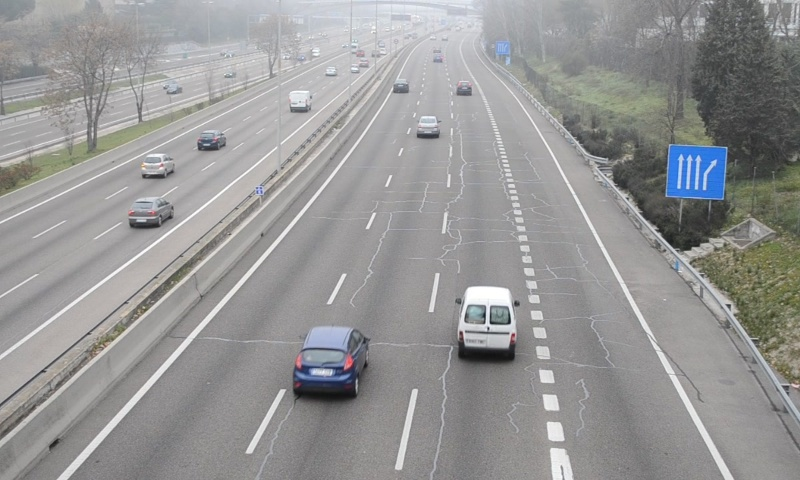car: (293, 326, 370, 397), (416, 115, 439, 137), (392, 77, 410, 94), (456, 80, 472, 96)
van: (458, 286, 517, 360)
